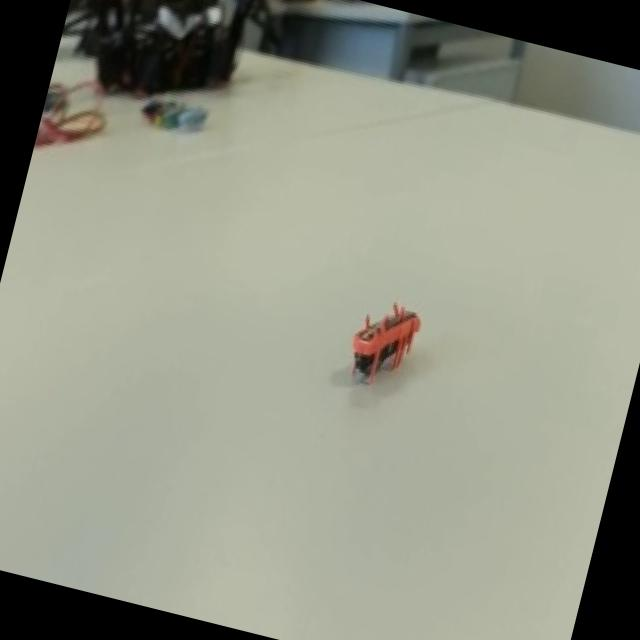7_NanoBug_Naranja: (324, 270, 440, 430)
